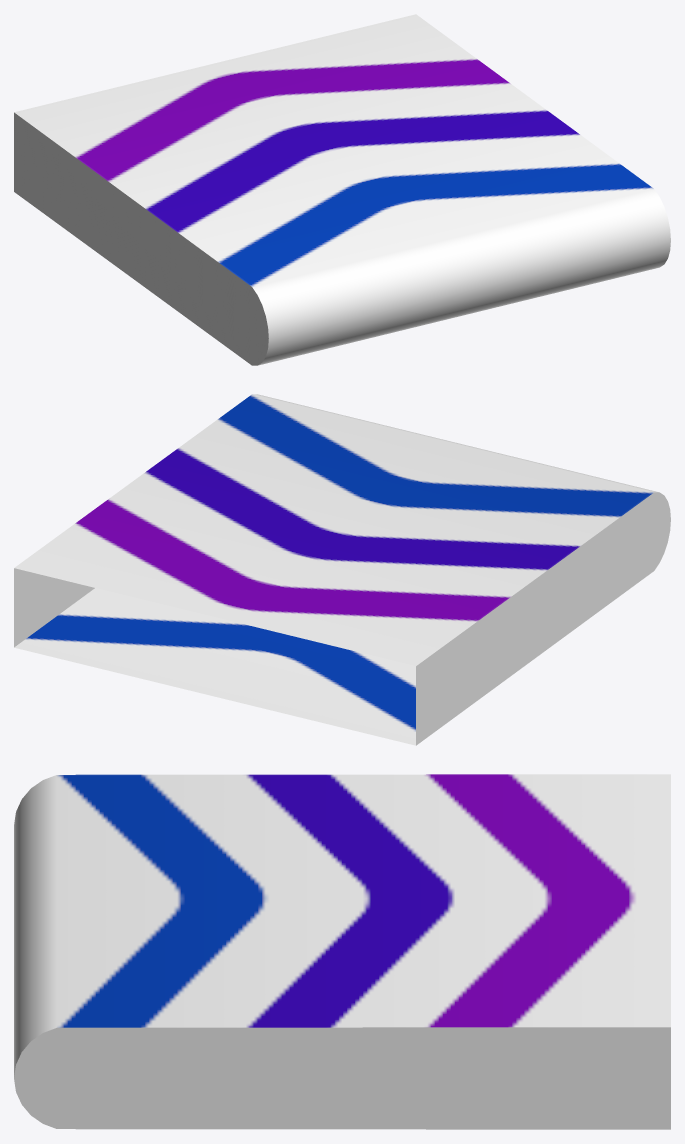
File: Corridor_Bottom_MESH.fbx
3 renders of one model, top to bottom at view 1: azimuth 30°, elevation 25°; view 2: azimuth 150°, elevation 25°; view 3: azimuth 270°, elevation 25°, orthographic. The views are drawn at different scales.
Parts seen in each view (by area): view 1: Corridor_Bottom; view 2: Corridor_Bottom; view 3: Corridor_Bottom.
Boxes of the visible parts, box(x1,y1,x2,y2) form: Corridor_Bottom: box(14, 14, 670, 365); Corridor_Bottom: box(14, 394, 670, 745); Corridor_Bottom: box(14, 774, 670, 1129).
Bounding box in the file's own units: 272 × 51.45 × 299.
Materials: 1 (1 with a texture image).
